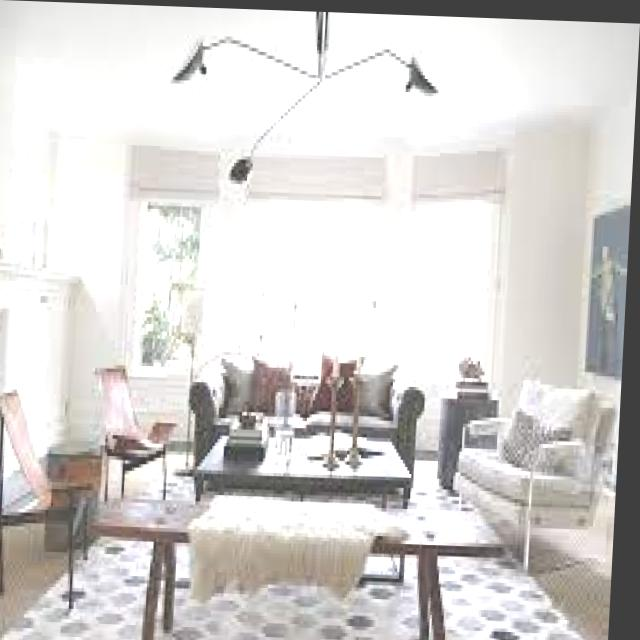noobs: (497, 552, 617, 640), (0, 604, 96, 640)
obs: (96, 495, 508, 640), (462, 375, 623, 569), (198, 432, 416, 575), (191, 362, 429, 487), (0, 390, 97, 607), (99, 361, 181, 504), (441, 382, 504, 491), (48, 437, 109, 548)
